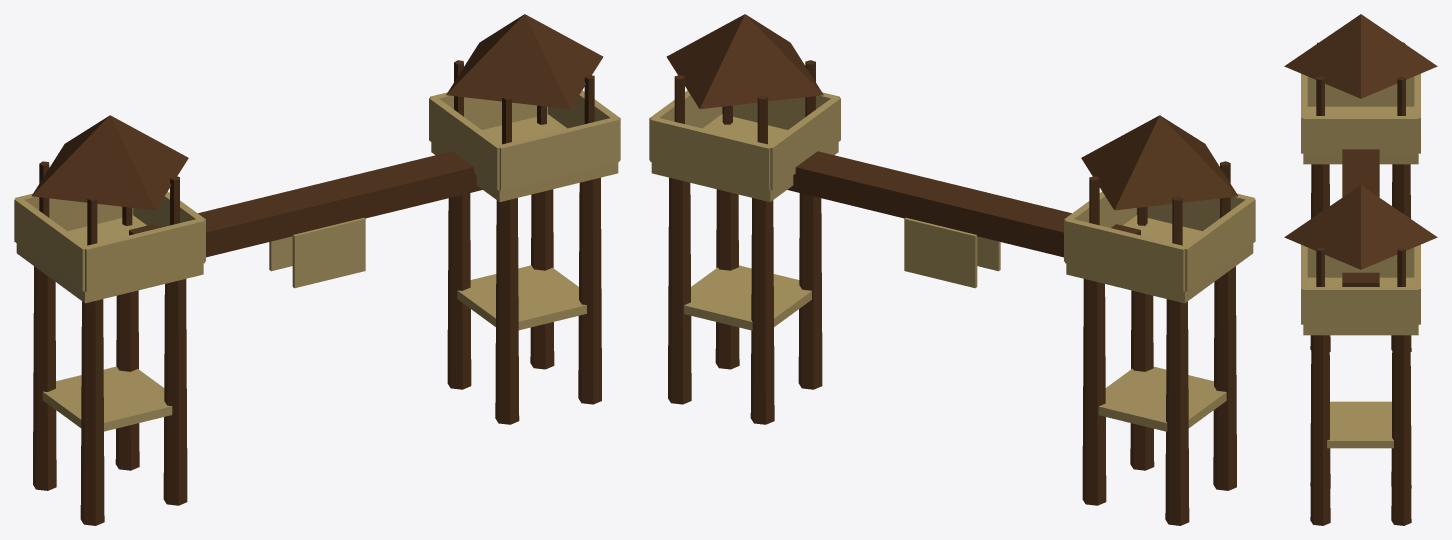
The model's file is elephant_gate.glb.
The picture shows the model from 3 angles, left to right: view 1: azimuth 30°, elevation 25°; view 2: azimuth 150°, elevation 25°; view 3: azimuth 270°, elevation 25°; orthographic projection. The views are drawn at different scales.
Visible parts, largest first — view 1: elephant_gate; view 2: elephant_gate; view 3: elephant_gate.
Part boxes in pixels (x1,y1,x2,y2): elephant_gate: (14, 14, 620, 525); elephant_gate: (649, 14, 1255, 525); elephant_gate: (1284, 14, 1437, 525).
Size of the model in its own units: 4.83 by 3.05 by 1.33.
